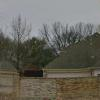Tree: (6, 10, 52, 67)
